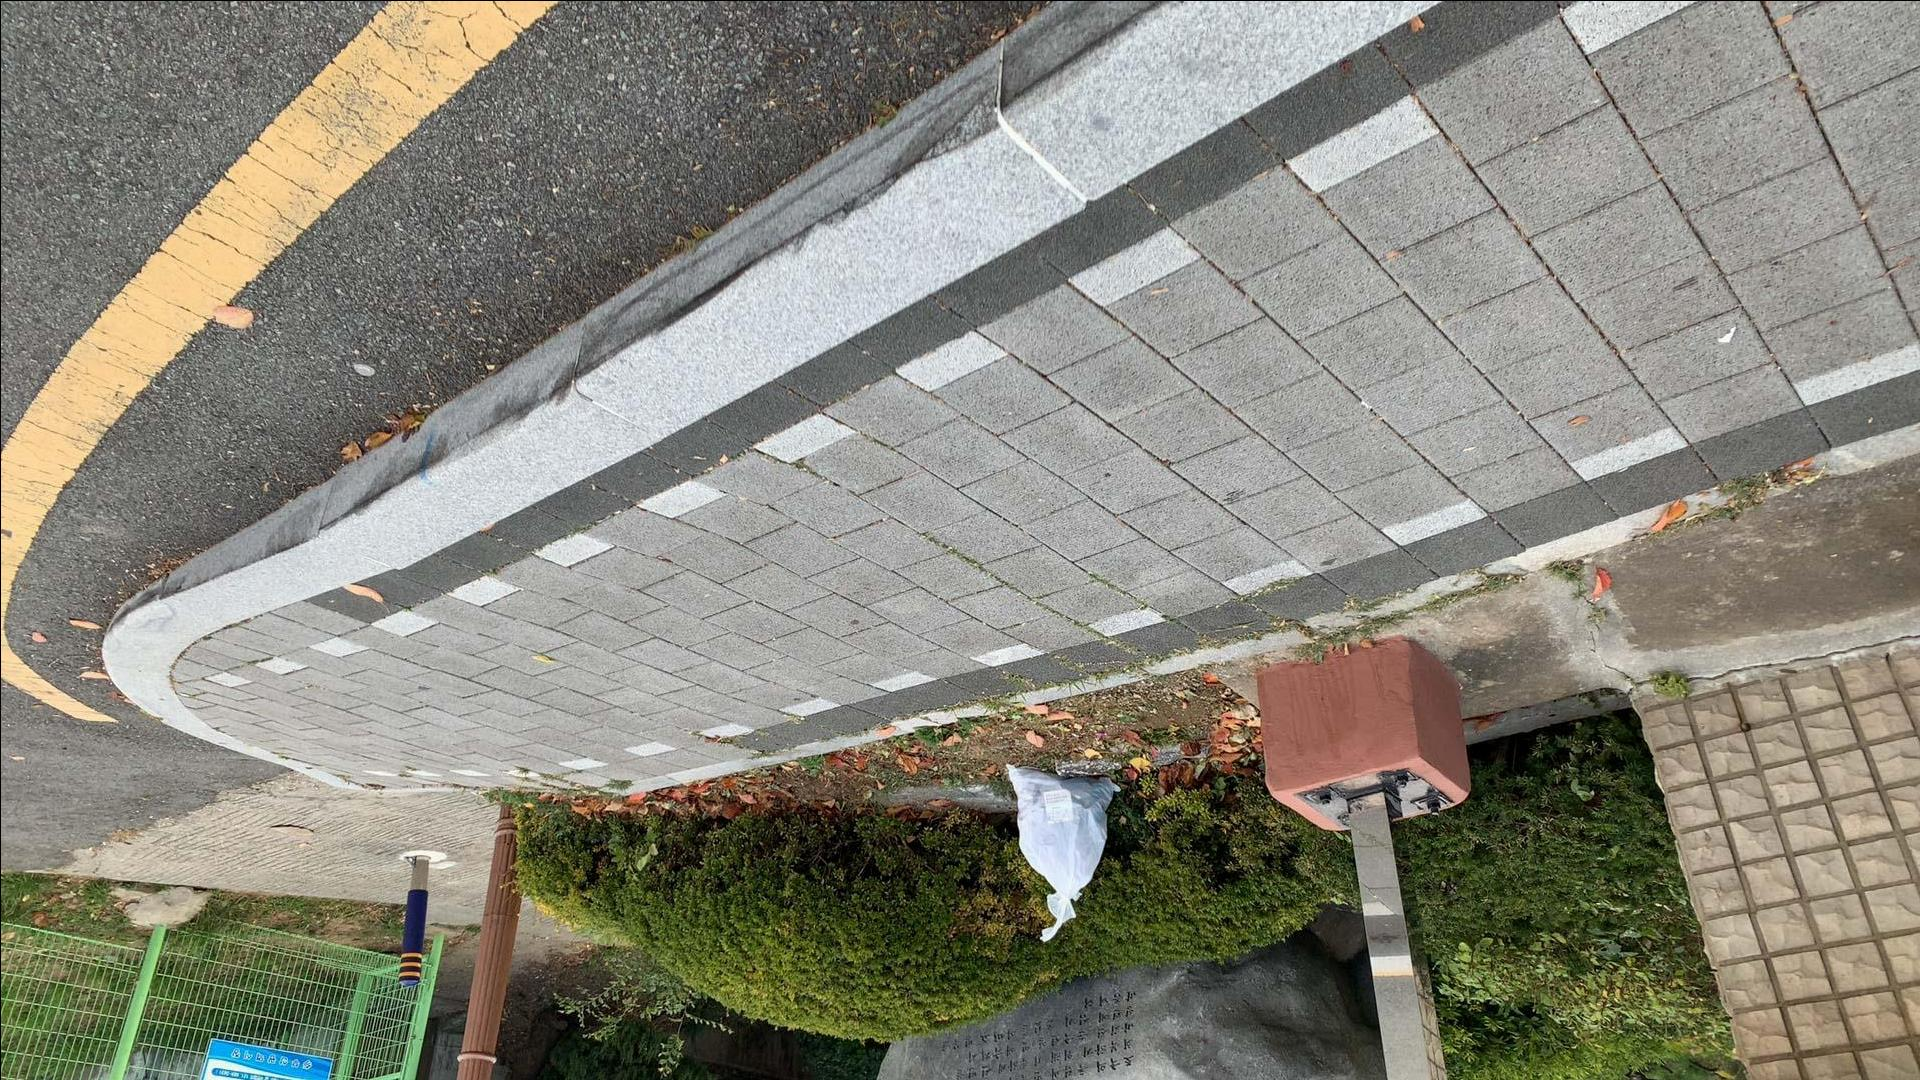white_bag: (992, 756, 1129, 949)
